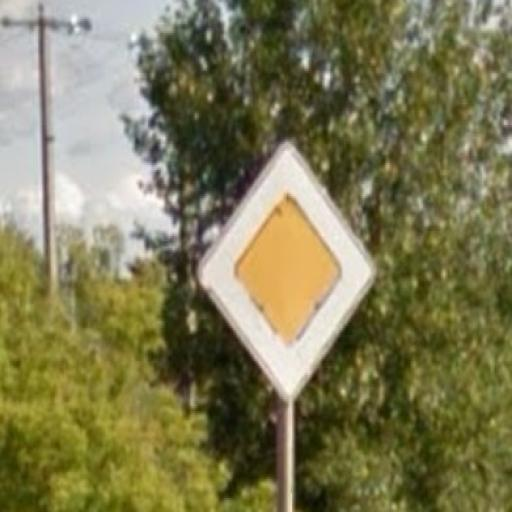traffic_sign: (198, 140, 380, 404)
